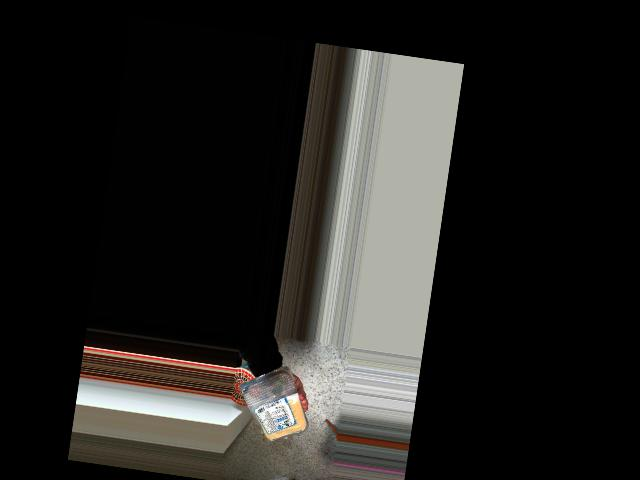cheese: (233, 365, 307, 450)
